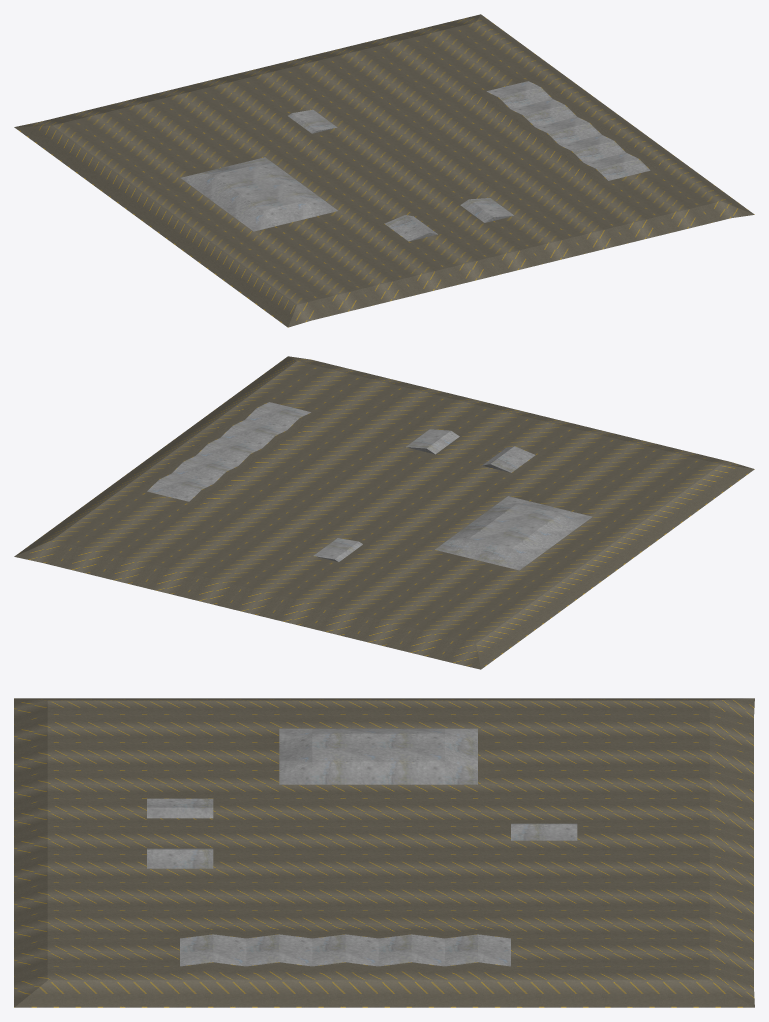
The model's file is gROUND (1).fbx.
3 views of the same model, one above another, from view 1: azimuth 30°, elevation 25°; view 2: azimuth 150°, elevation 25°; view 3: azimuth 270°, elevation 25° (orthographic). The views are drawn at different scales.
Visible parts, largest first — view 1: Test_trackGround; view 2: Test_trackGround; view 3: Test_trackGround.
Part boxes in pixels (x1,y1,x2,y2): Test_trackGround: (14,14,754,327); Test_trackGround: (14,356,754,669); Test_trackGround: (14,698,754,1007).
Bounding box in the file's own units: 19100 × 640 × 19406.
